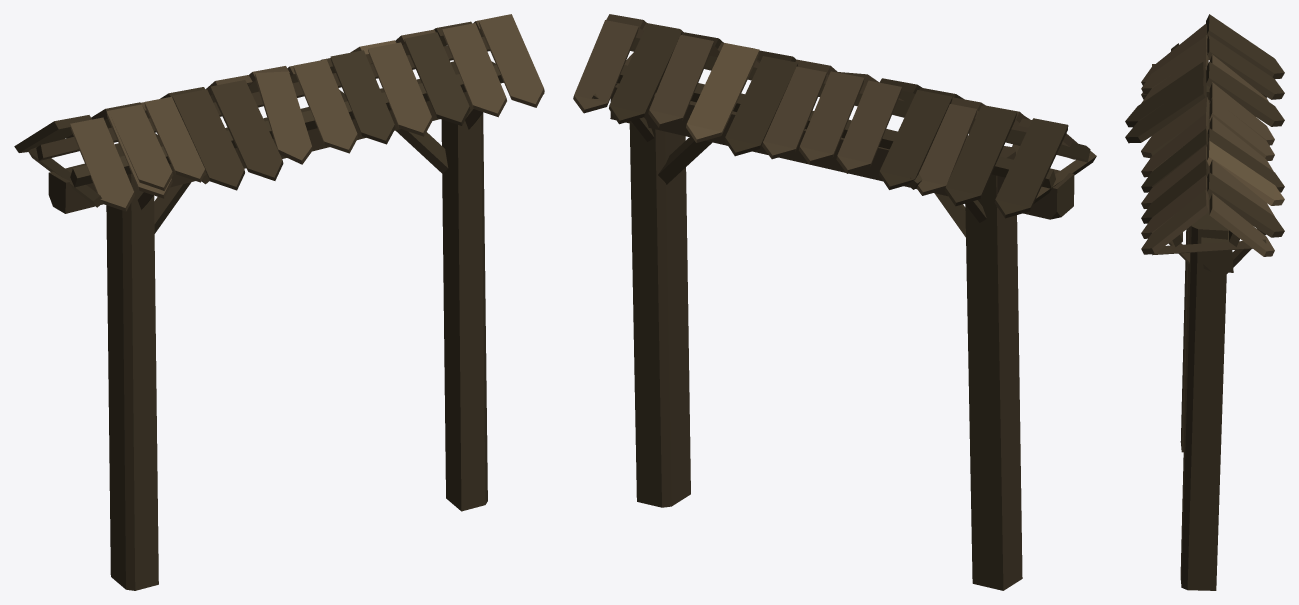
File: EA03_Fence_WallGate_01a.glb
3 views of the same model, side by side, from view 1: azimuth 30°, elevation 25°; view 2: azimuth 150°, elevation 25°; view 3: azimuth 270°, elevation 25° (orthographic). The views are drawn at different scales.
Parts seen in each view (by area): view 1: EA03_Fence_WallGate_01a; view 2: EA03_Fence_WallGate_01a; view 3: EA03_Fence_WallGate_01a.
Boxes of the visible parts, <box> form: EA03_Fence_WallGate_01a: <box>14,14,544,590</box>; EA03_Fence_WallGate_01a: <box>573,14,1096,590</box>; EA03_Fence_WallGate_01a: <box>1125,14,1284,590</box>.
Bounding box in the file's own units: 4.97 × 4.89 × 1.76.
1 material, 1 textured.
